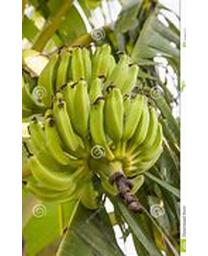banana: (22, 40, 173, 254)
